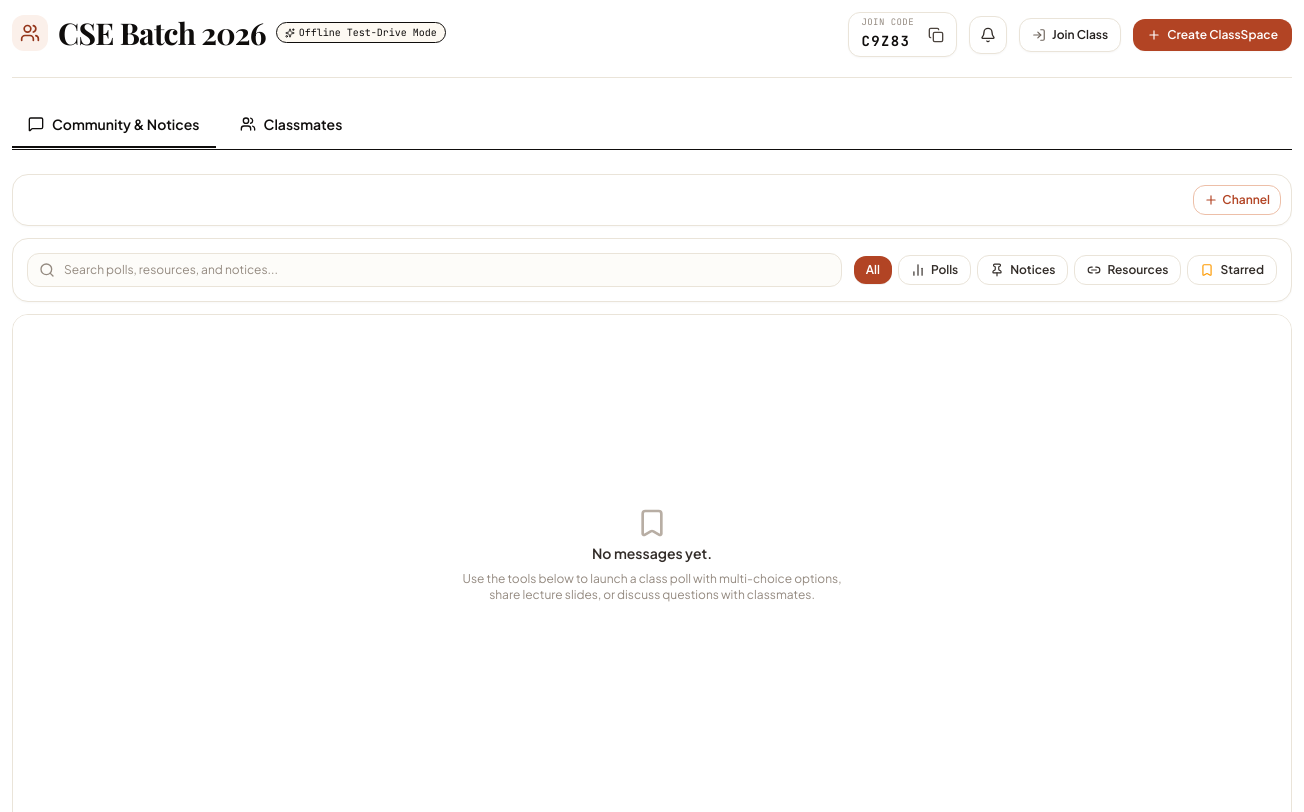
Test: ClassSpace UI Component Integration & User Mode › synchronizes email between main Settings profile and ClassSpace directory
(page scrolled)
Expected: the heading "CSE Batch 2026" is shown, [58, 15, 266, 51]
Click the button "Classmates". click: (291, 125)
box: [224, 102, 358, 148]
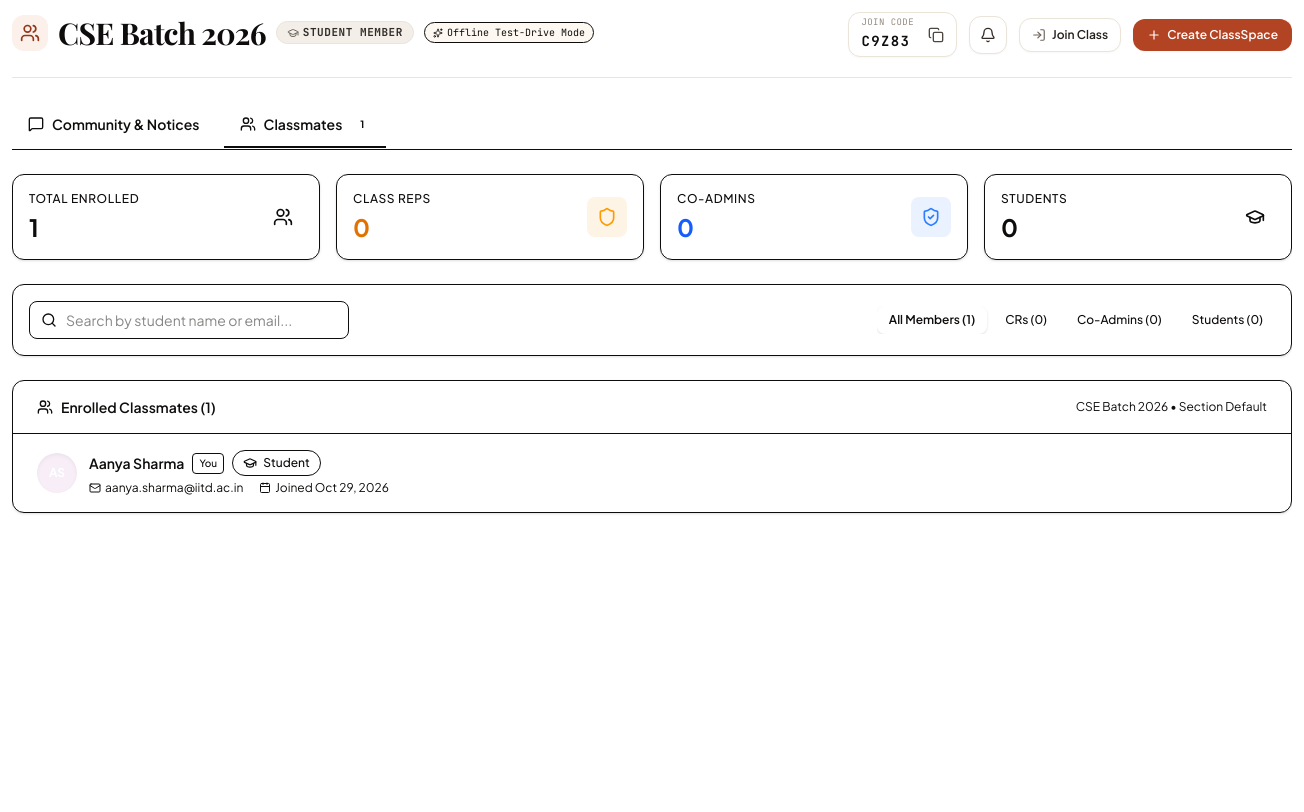
Expected: the text "aanya.sharma@iitd.ac.in" is shown, [89, 480, 243, 496]
